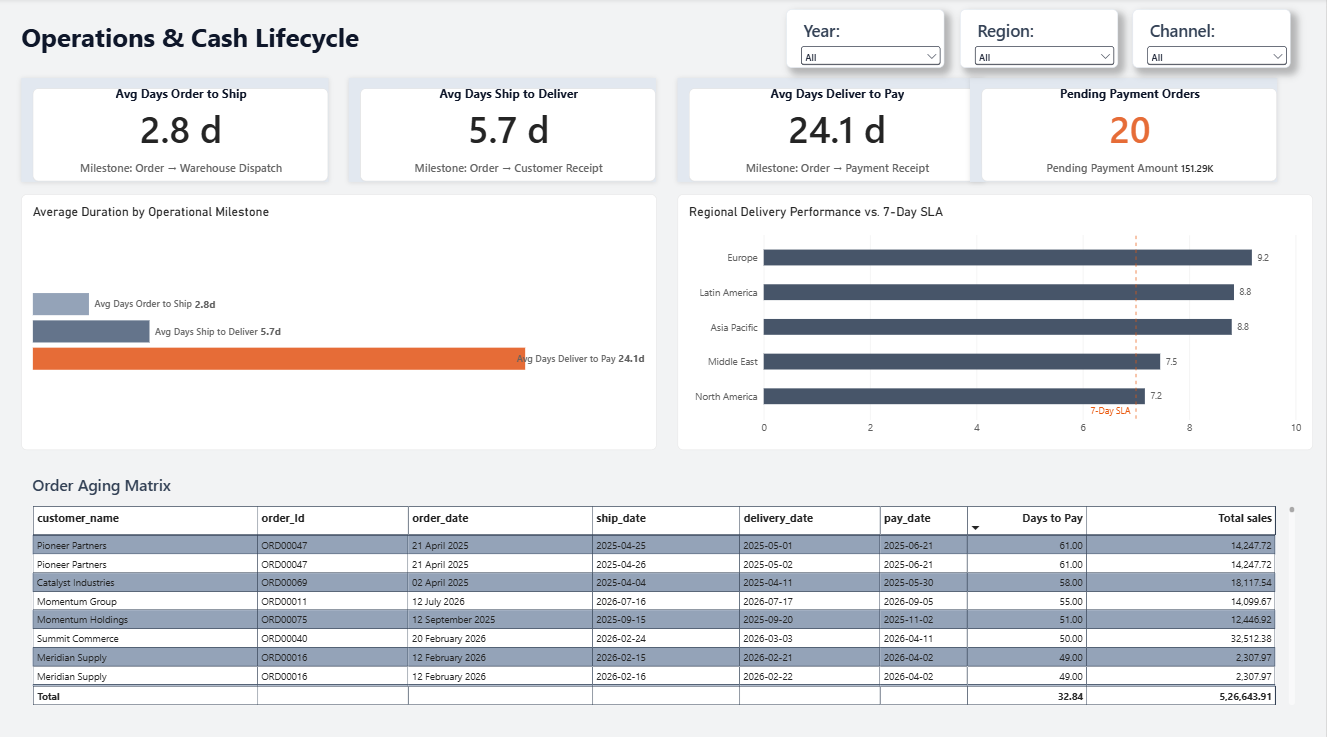

This screenshot's page, from the dashboard's own definition file:
{"tool":"powerbi","page":{"name":"Operations & Cash Lifecycle","canvas":[1920,1080],"ordinal":1},"visuals":[{"type":"cardVisual","fields":{"Data":["_OPERATIONAL LIFECYCLE MEASURES.Avg Days Order to Ship"]},"box":[30,115,445,150],"z":0},{"type":"textbox","box":[30,30,545.1,84.3],"z":1000},{"type":"cardVisual","title":"Total Sales","fields":{"Data":["_OPERATIONAL LIFECYCLE MEASURES.Avg Days Ship to Deliver"]},"box":[505,115,445,150],"z":2000},{"type":"cardVisual","title":"Total Sales","fields":{"Data":["_OPERATIONAL LIFECYCLE MEASURES.Avg Days Deliver to Pay"]},"box":[980,115,445,150],"z":3000},{"type":"cardVisual","title":"Total Sales","fields":{"Data":["_OPERATIONAL LIFECYCLE MEASURES.Pending Payment Orders"]},"box":[1405,115,445,150],"z":4000},{"type":"clusteredBarChart","title":"Average Duration by Operational Milestone","fields":{"Y":["_OPERATIONAL LIFECYCLE MEASURES.Avg Days Order to Ship","_OPERATIONAL LIFECYCLE MEASURES.Avg Days Ship to Deliver","_OPERATIONAL LIFECYCLE MEASURES.Avg Days Deliver to Pay"]},"box":[30,285,920,370],"z":5000},{"type":"clusteredBarChart","title":"Regional Delivery Performance vs. 7-Day SLA","fields":{"Category":["dim_customer.region"],"Y":["_OPERATIONAL LIFECYCLE MEASURES.Avg Days Order to Deliver"]},"box":[980,285,920,370],"z":6000},{"type":"tableEx","title":"Order Aging Matrix","fields":{"Values":["dim_customer.customer_name","fact_order_proccess.order_Id","fact_order_proccess.order_date","fact_order_proccess.ship_date","fact_order_proccess.delivery_date","fact_order_proccess.pay_date","_OPERATIONAL LIFECYCLE MEASURES.Avg Days Order to Pay","_measures.Total sales"]},"box":[30,675,1860,365],"z":7000},{"type":"slicer","fields":{"Values":["dim_date.year"]},"box":[1138,16,229,85],"z":8000},{"type":"slicer","fields":{"Values":["dim_customer.region"]},"box":[1390,16,229,85],"z":9000},{"type":"slicer","fields":{"Values":["dim_campaign.Channel"]},"box":[1640,16,229,85],"z":10000}]}

Visuals, with their boxes in screenshot pixels (x1, y1, x2, y2), scaled from the page's 1920x1080 canvas onto the 1327x737 screenshot:
cardVisual - _OPERATIONAL LIFECYCLE MEASURES.Avg Days Order to Ship: bbox=(21, 78, 328, 181)
textbox: bbox=(21, 20, 397, 78)
"Total Sales" cardVisual: bbox=(349, 78, 657, 181)
"Total Sales" cardVisual: bbox=(677, 78, 985, 181)
"Total Sales" cardVisual: bbox=(971, 78, 1279, 181)
"Average Duration by Operational Milestone" clusteredBarChart: bbox=(21, 194, 657, 447)
"Regional Delivery Performance vs. 7-Day SLA" clusteredBarChart: bbox=(677, 194, 1313, 447)
"Order Aging Matrix" tableEx: bbox=(21, 461, 1306, 710)
slicer - dim_date.year: bbox=(787, 11, 945, 69)
slicer - dim_customer.region: bbox=(961, 11, 1119, 69)
slicer - dim_campaign.Channel: bbox=(1133, 11, 1292, 69)
